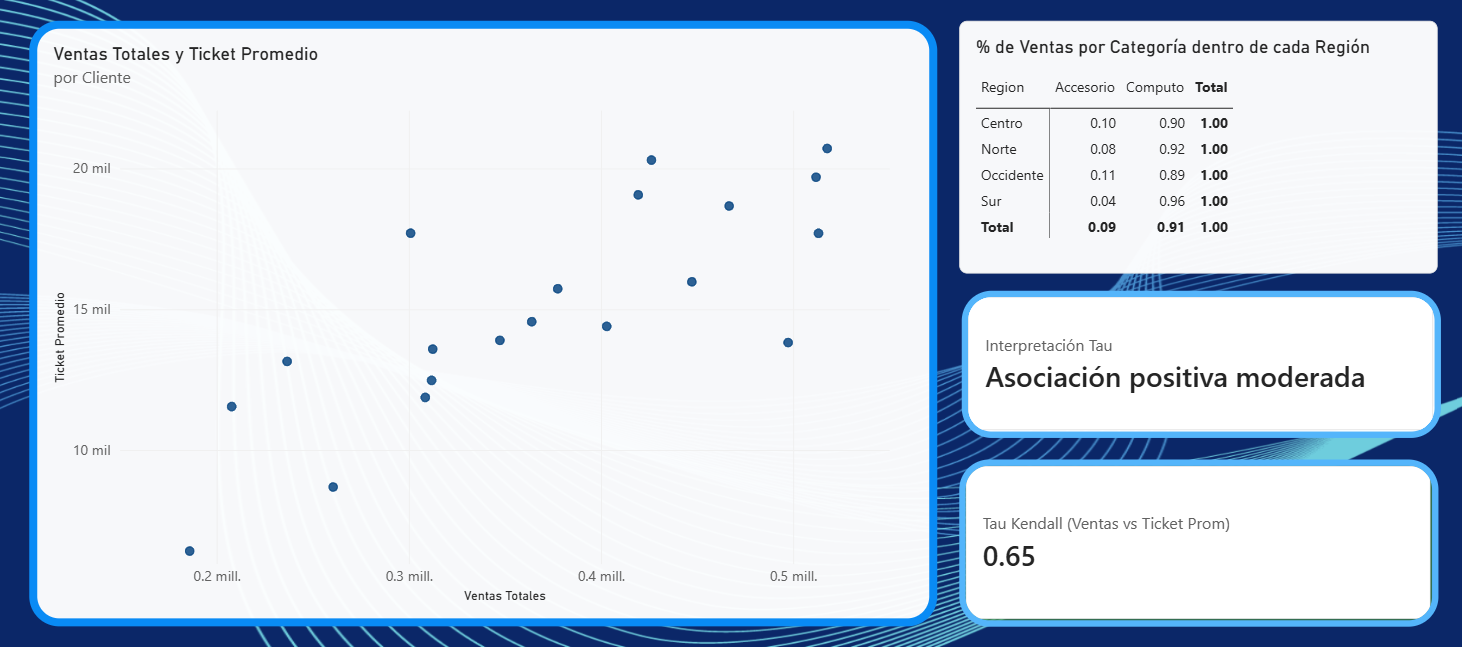

The dashboard page shown, as its layout file describes it:
{"tool":"powerbi","page":{"name":"Asociaciones y Hallazgos","canvas":[1920,1080],"ordinal":3},"visuals":[{"type":"scatterChart","fields":{"Category":["dim_cliente.Cliente"],"X":["hechos_ventas.Ventas Totales"],"Y":["hechos_ventas.Ticket Promedio"]},"box":[51.4,38.5,908,605.3],"z":0},{"type":"pivotTable","title":"% de Ventas por Categoría dentro de cada Región","fields":{"Columns":["dim_producto.Categoria"],"Rows":["dim_cliente.Region"],"Values":["hechos_ventas.% Categoría en Región"]},"box":[981.3,38.5,478.7,253.1],"z":1000},{"type":"cardVisual","fields":{"Data":["dim_cliente.Tau Kendall (Ventas vs Ticket Prom)"]},"box":[981.3,476.9,479.6,167.3],"z":2000},{"type":"cardVisual","fields":{"Data":["hechos_ventas.Interpretación Tau"]},"box":[983.2,308.2,479.6,147.2],"z":3000}]}

Visuals, with their boxes on the page's 1920x1080 design canvas (x1, y1, x2, y2). These are canvas units, not pixel positions in the 1462x647 screenshot, which may show the page scaled, cropped or inside an application window:
scatterChart - dim_cliente.Cliente x hechos_ventas.Ventas Totales: (51,38,959,644)
"% de Ventas por Categoría dentro de cada Región" pivotTable: (981,38,1460,292)
cardVisual - dim_cliente.Tau Kendall (Ventas vs Ticket Prom): (981,477,1461,644)
cardVisual - hechos_ventas.Interpretación Tau: (983,308,1463,455)
